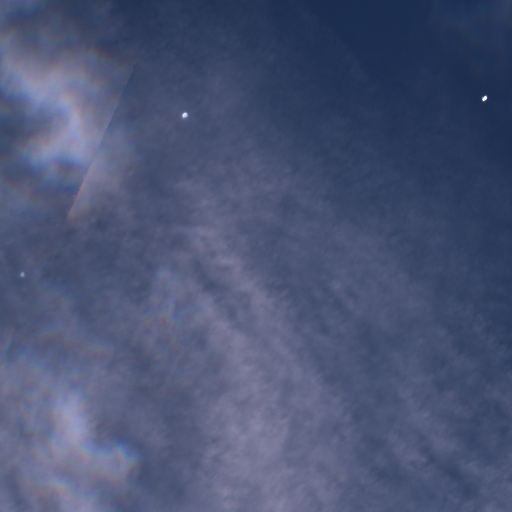Iceberg: (481, 95, 487, 101), (182, 112, 188, 118), (20, 272, 24, 276)
